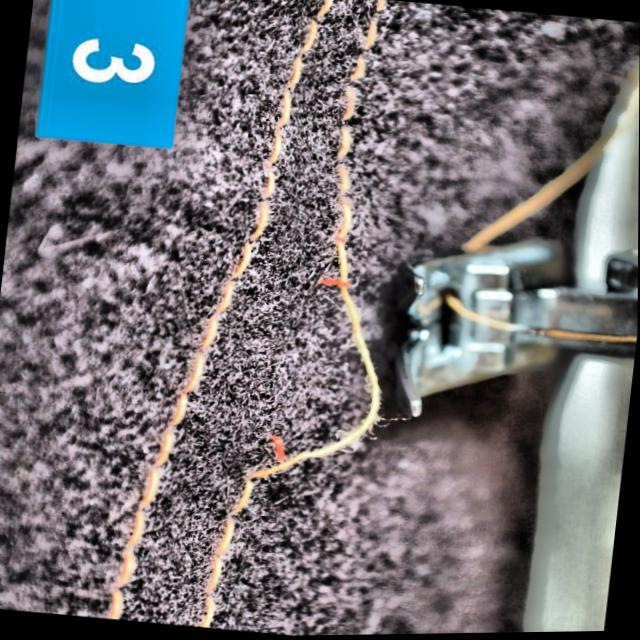Stitch: (203, 235, 406, 538)
